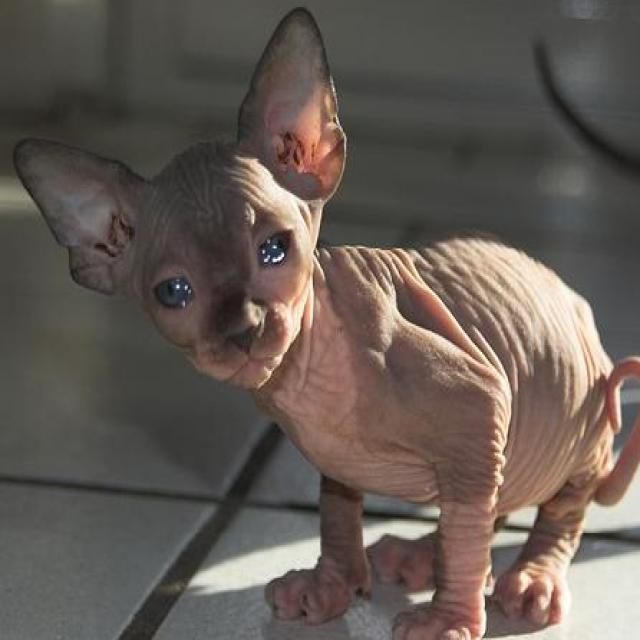Sphynx: (7, 1, 640, 640)
